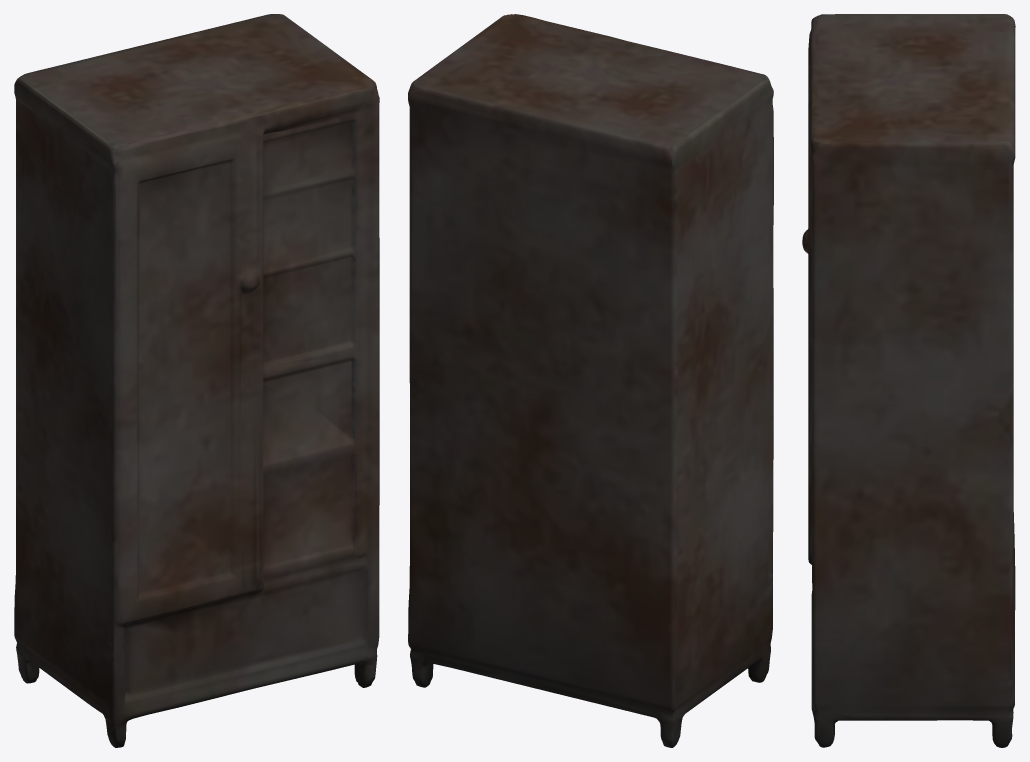
File: chipped-iron-medicine-cabinet-v001.glb
The picture shows the model from 3 angles, left to right: view 1: azimuth 30°, elevation 25°; view 2: azimuth 150°, elevation 25°; view 3: azimuth 270°, elevation 25°; orthographic projection.
Parts seen in each view (by area): view 1: chipped-iron-medicine-cabinet; view 2: chipped-iron-medicine-cabinet; view 3: chipped-iron-medicine-cabinet.
Boxes of the visible parts, x1,y1,x2,y2 form: chipped-iron-medicine-cabinet: (14, 14, 379, 747); chipped-iron-medicine-cabinet: (408, 14, 773, 747); chipped-iron-medicine-cabinet: (802, 14, 1015, 747).
Size of the model in its own units: 0.777 by 1.68 by 0.5338.
Materials: 1 (1 with a texture image).
